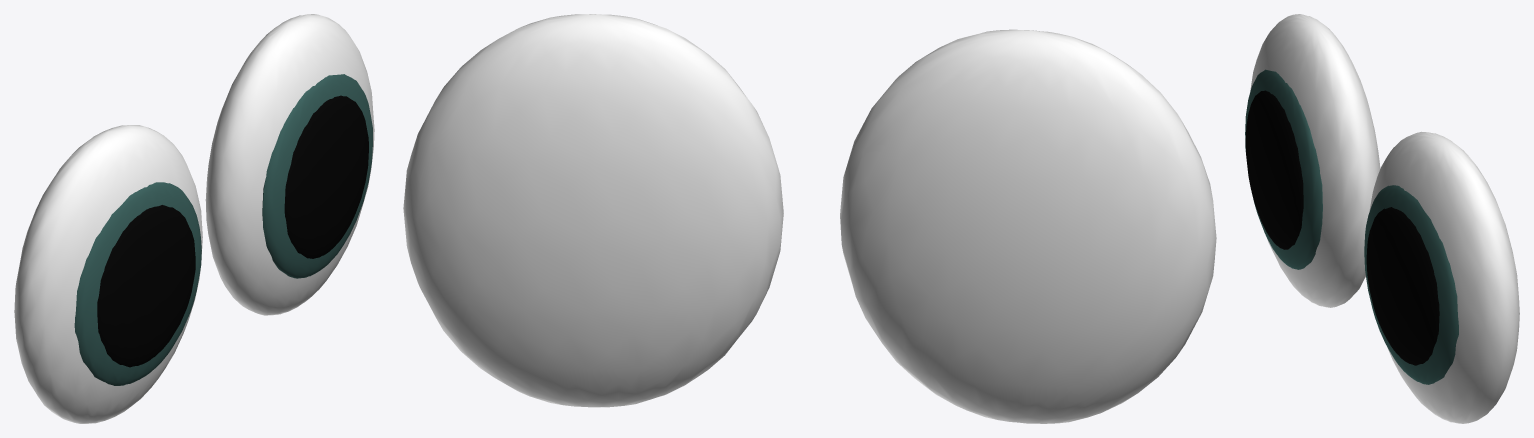
3 renders of one model, left to right at view 1: azimuth 30°, elevation 25°; view 2: azimuth 150°, elevation 25°; view 3: azimuth 270°, elevation 25°, orthographic. The views are drawn at different scales.
Visible parts, largest first — view 1: Sphere.003, Sphere_1.003, Sphere_2.003; view 2: Sphere.003; view 3: Sphere.003, Sphere_1.003, Sphere_2.003.
Part boxes in pixels (x1,y1,x2,y2): Sphere.003: [14, 14, 374, 423]; Sphere_1.003: [97, 95, 368, 367]; Sphere_2.003: [74, 74, 372, 385]; Sphere.003: [403, 14, 1216, 423]; Sphere.003: [1250, 14, 1519, 423]; Sphere_1.003: [1245, 90, 1439, 365]; Sphere_2.003: [1245, 69, 1458, 384].
Size of the model in its own units: 67.94 by 35.79 by 39.53.
